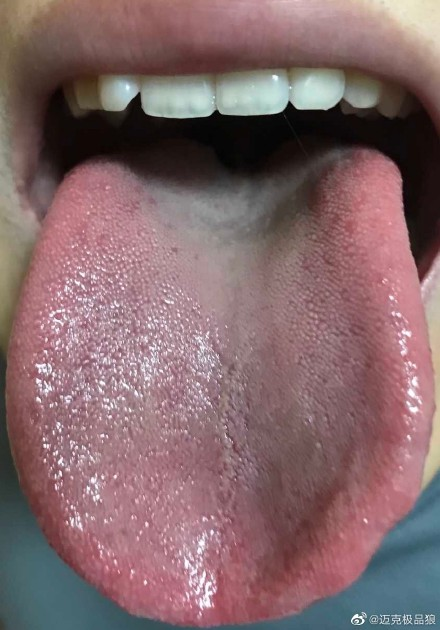baitaishe: (5, 141, 436, 627)
shenquao: (154, 142, 353, 199)
